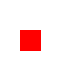square: (20, 30, 40, 50)
